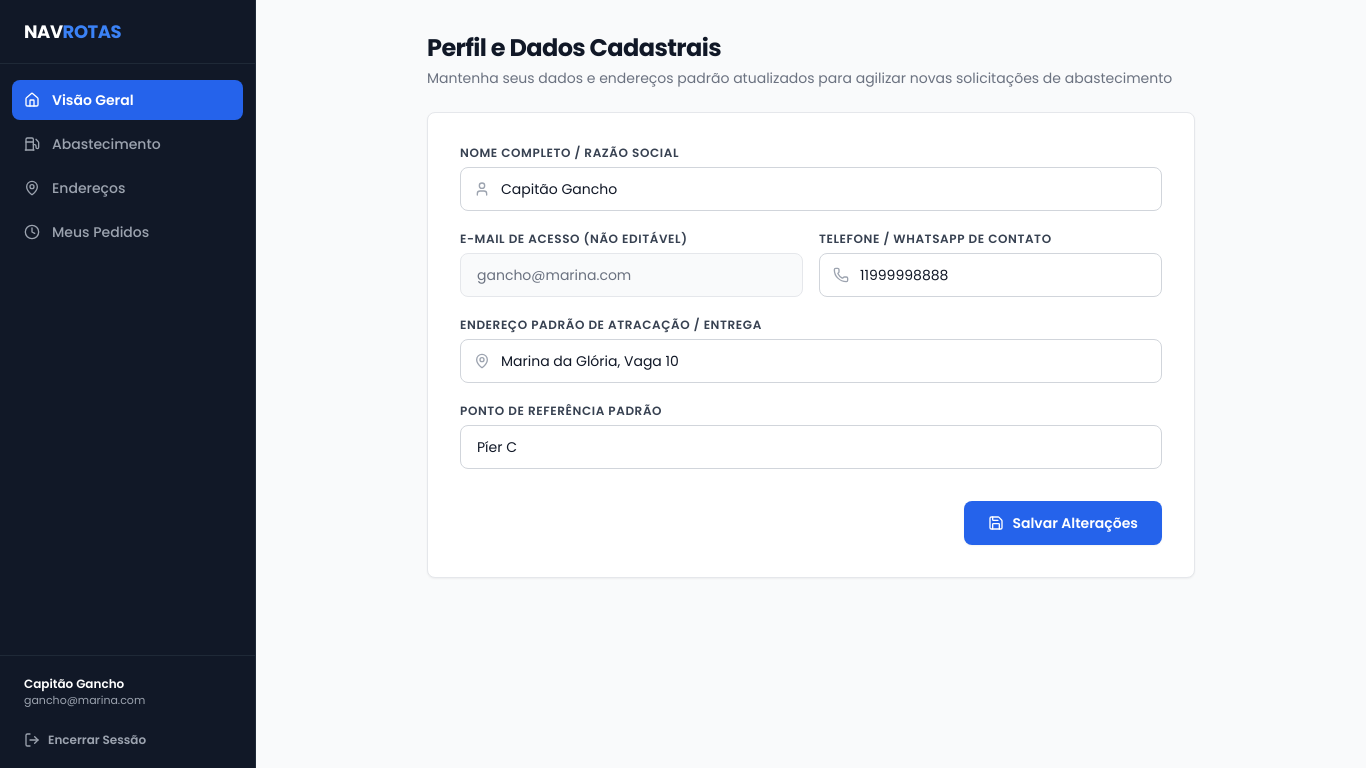
Scenario: PerfilPage › exibe mensagem de sucesso ao atualizar os dados cadastrais via API com sucesso
Replace the text in the field showing "Capitão Gancho" with "Capitão Gancho Atualizado": (811, 189) [460,167,1162,211]
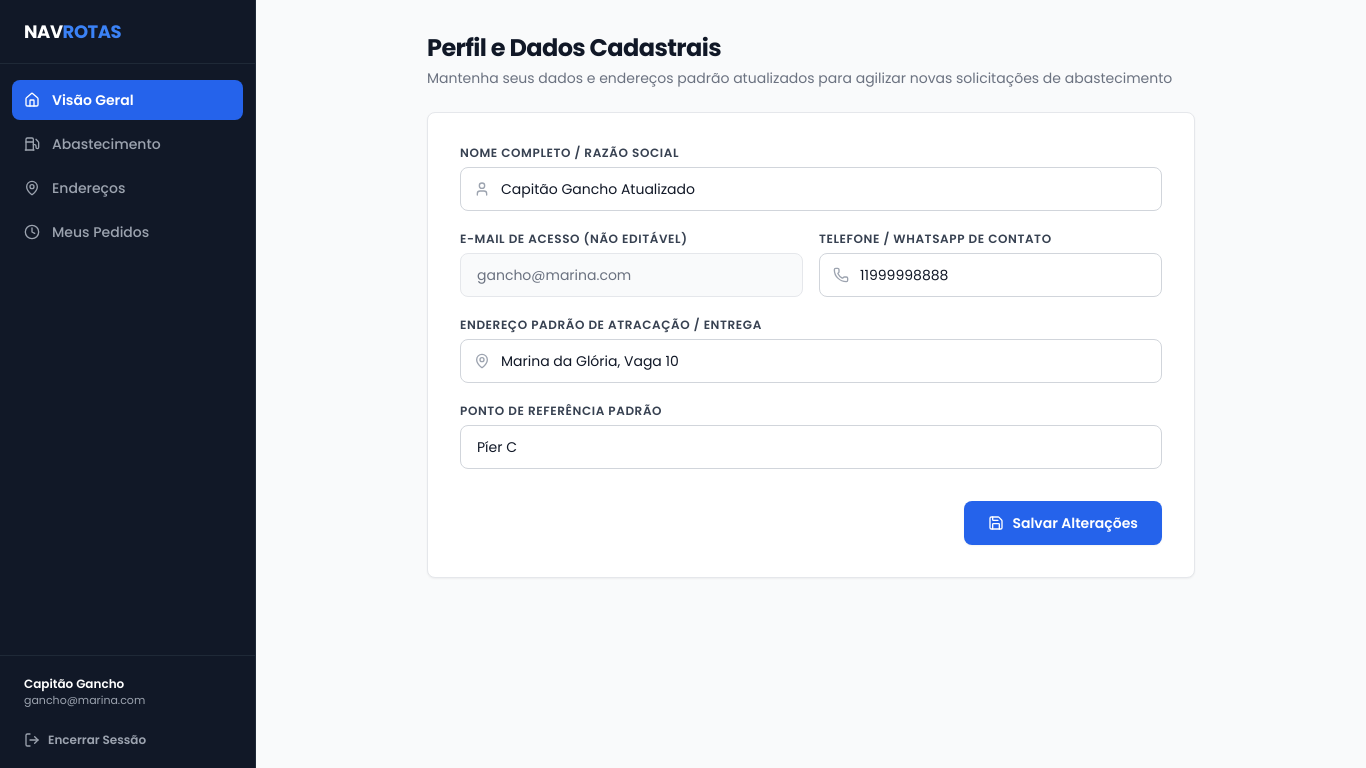
Click the button "Salvar Alterações": click(1063, 523) [964,501,1162,545]
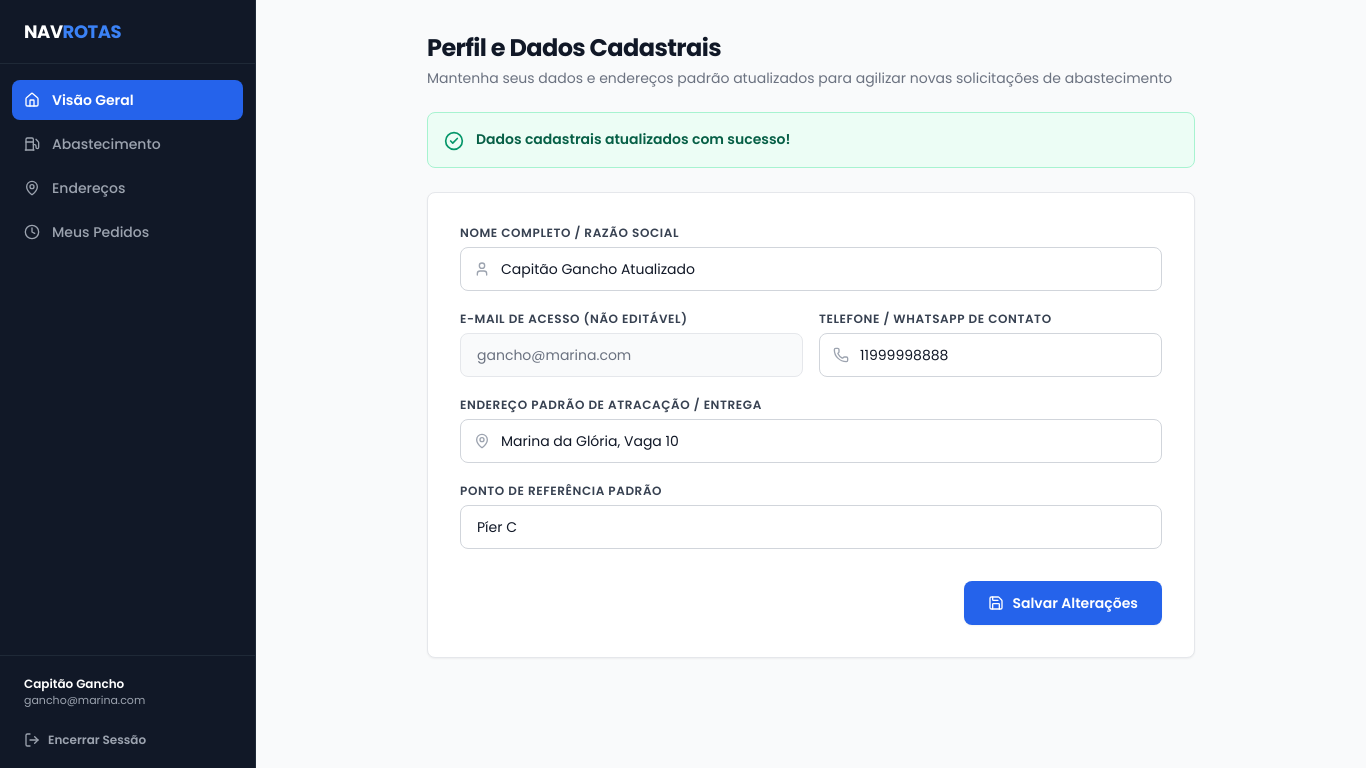
Check: the text "Dados cadastrais atualizados com sucesso!" is shown, box [476,129,790,149]
